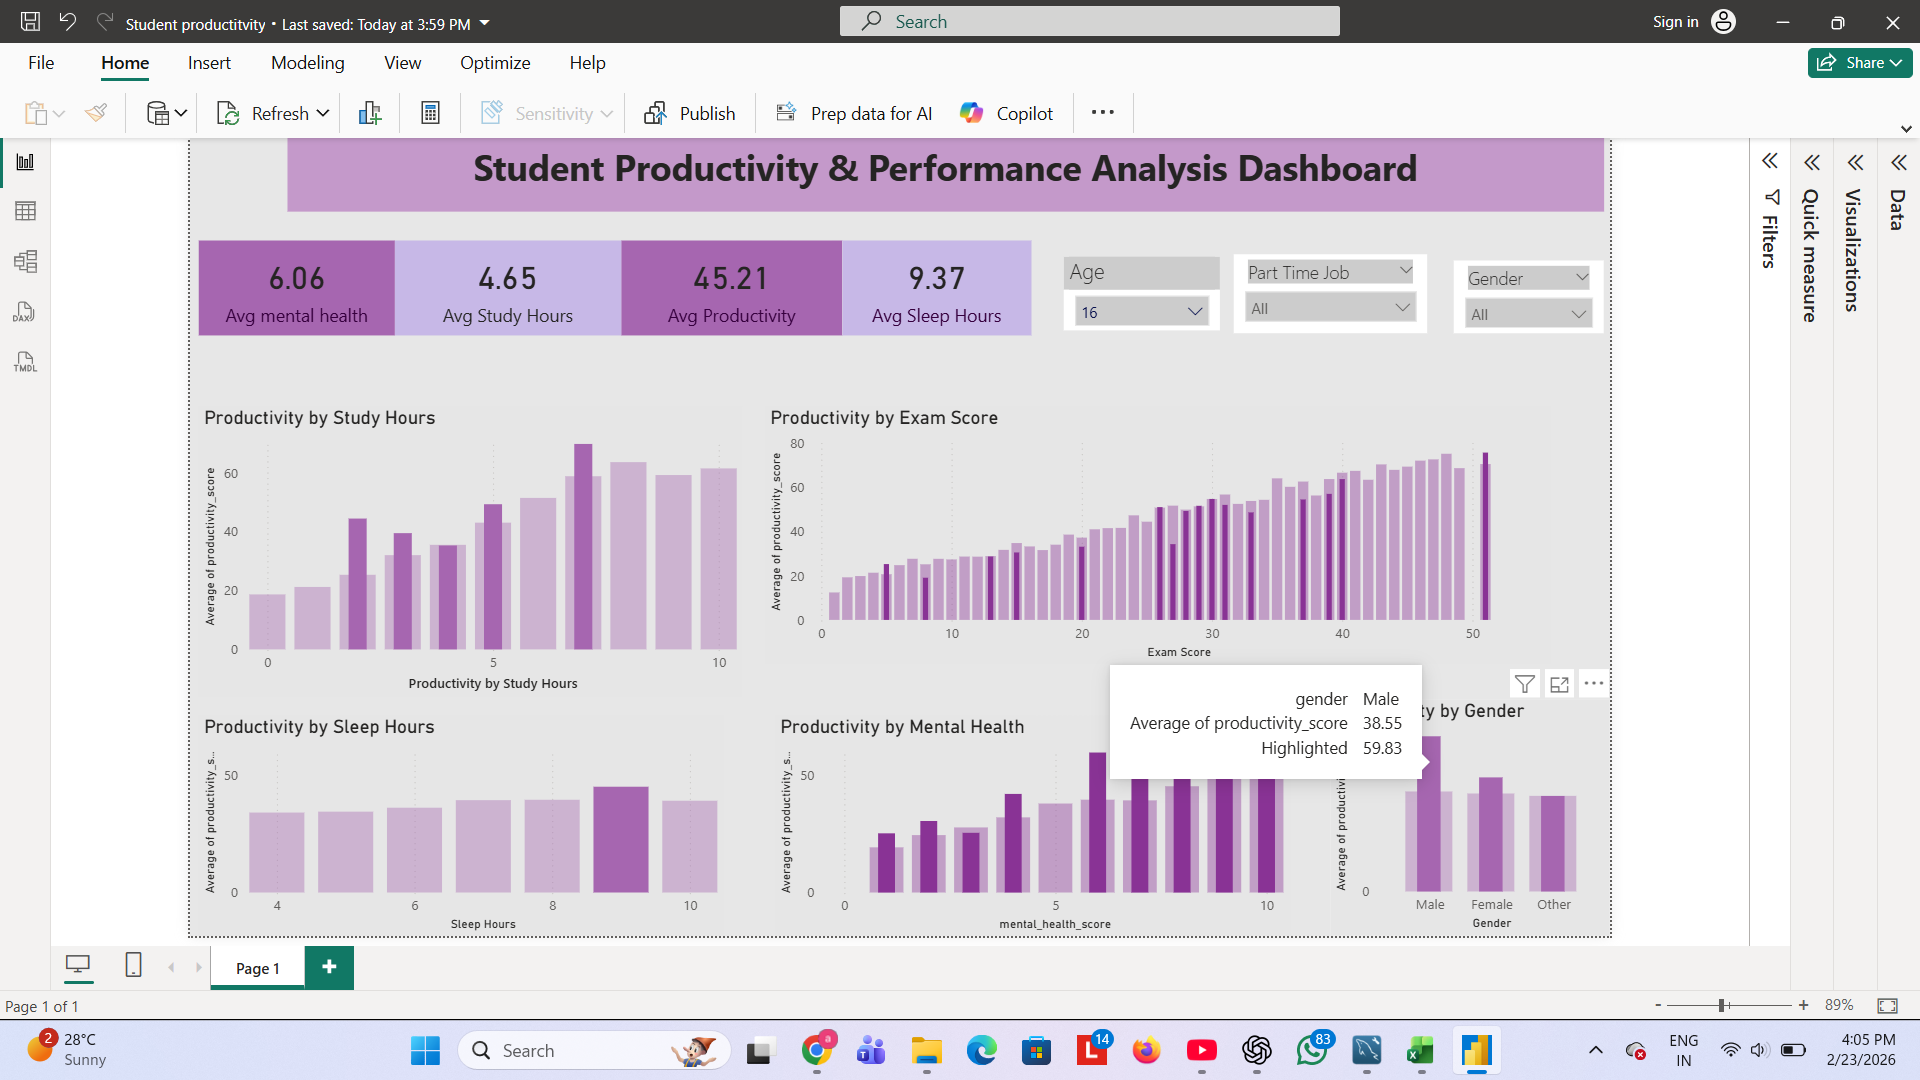

This screenshot's page, from the dashboard's own definition file:
{"tool":"powerbi","page":{"name":"Page 1","canvas":[1280,720],"ordinal":0},"visuals":[{"type":"card","fields":{"Values":["student_productivity_dataset.Avg mental health"]},"box":[7.9,92.4,177,85.7],"z":0},{"type":"card","fields":{"Values":["student_productivity_dataset.Avg Productivity"]},"box":[388.9,92.4,199.5,85.7],"z":1},{"type":"card","fields":{"Values":["student_productivity_dataset.Avg Sleep Hours"]},"box":[588.4,92.4,170.2,85.7],"z":2},{"type":"card","fields":{"Values":["student_productivity_dataset.Avg Study Hours"]},"box":[184.8,92.4,204,85.7],"z":3},{"type":"clusteredColumnChart","title":"Productivity by Study Hours","fields":{"Category":["student_productivity_dataset.study_hours (bins) 2"],"Y":["Avg(student_productivity_dataset.productivity_score)"]},"box":[7.5,242,490.3,262],"z":4},{"type":"clusteredColumnChart","title":"Productivity by Sleep Hours","fields":{"Category":["student_productivity_dataset.sleep_hours (bins)"],"Y":["Avg(student_productivity_dataset.productivity_score)"]},"box":[7.5,520.2,472.8,199.6],"z":5},{"type":"clusteredColumnChart","title":"Productivity by Mental Health","fields":{"Category":["student_productivity_dataset.mental_health_score"],"Y":["Avg(student_productivity_dataset.productivity_score)"]},"box":[527.7,520.2,465.3,199.6],"z":6},{"type":"clusteredColumnChart","title":"Productivity by Gender","fields":{"Y":["Avg(student_productivity_dataset.productivity_score)"],"Category":["student_productivity_dataset.gender"]},"box":[1028,506.5,252,213.3],"z":7},{"type":"clusteredColumnChart","title":"Productivity by Exam Score","fields":{"Y":["Avg(student_productivity_dataset.productivity_score)"],"Category":["student_productivity_dataset.exam_score (bins)"]},"box":[518.5,242.3,709,232.2],"z":8},{"type":"slicer","title":"Age","fields":{"Values":["student_productivity_dataset.age"]},"box":[787.9,107.1,140.9,66.5],"z":9},{"type":"slicer","fields":{"Values":["student_productivity_dataset.part_time_job"]},"box":[941.1,104.8,174.7,71],"z":10},{"type":"slicer","fields":{"Values":["student_productivity_dataset.gender"]},"box":[1139.5,110.5,135.3,65.4],"z":11},{"type":"textbox","box":[87.9,0,1186.9,66.5],"z":13}]}

Visuals, with their boxes on the page's 1280x720 design canvas (x1, y1, x2, y2). These are canvas units, not pixel positions in the 1920x1080 screenshot, which may show the page scaled, cropped or inside an application window:
card - student_productivity_dataset.Avg mental health: left=8, top=92, right=185, bottom=178
card - student_productivity_dataset.Avg Productivity: left=389, top=92, right=588, bottom=178
card - student_productivity_dataset.Avg Sleep Hours: left=588, top=92, right=759, bottom=178
card - student_productivity_dataset.Avg Study Hours: left=185, top=92, right=389, bottom=178
"Productivity by Study Hours" clusteredColumnChart: left=8, top=242, right=498, bottom=504
"Productivity by Sleep Hours" clusteredColumnChart: left=8, top=520, right=480, bottom=720
"Productivity by Mental Health" clusteredColumnChart: left=528, top=520, right=993, bottom=720
"Productivity by Gender" clusteredColumnChart: left=1028, top=506, right=1280, bottom=720
"Productivity by Exam Score" clusteredColumnChart: left=518, top=242, right=1228, bottom=474
"Age" slicer: left=788, top=107, right=929, bottom=174
slicer - student_productivity_dataset.part_time_job: left=941, top=105, right=1116, bottom=176
slicer - student_productivity_dataset.gender: left=1140, top=110, right=1275, bottom=176
textbox: left=88, top=0, right=1275, bottom=66
